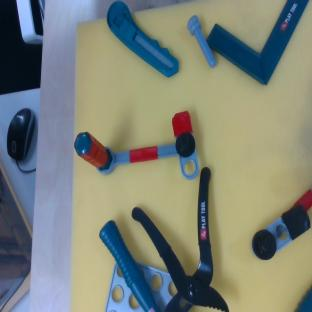pass: (72, 110, 202, 200)
